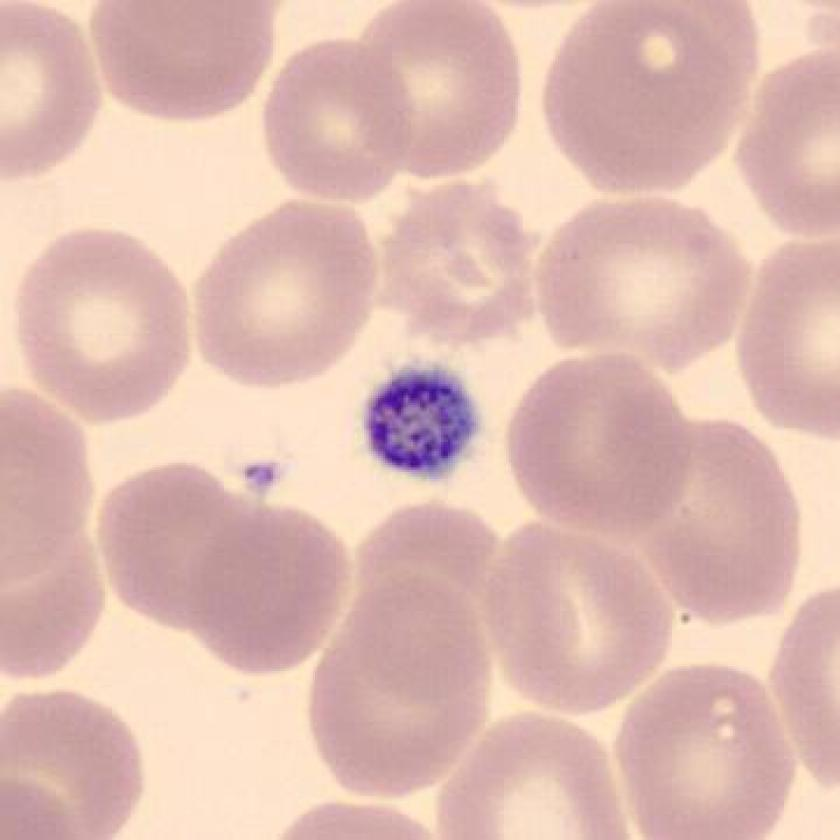platelets: (358, 357, 489, 485)
